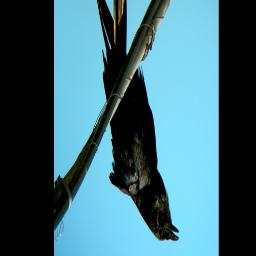Crow: (94, 0, 180, 245)
